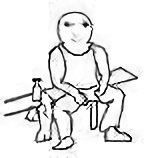dragon: (63, 19, 89, 44)
